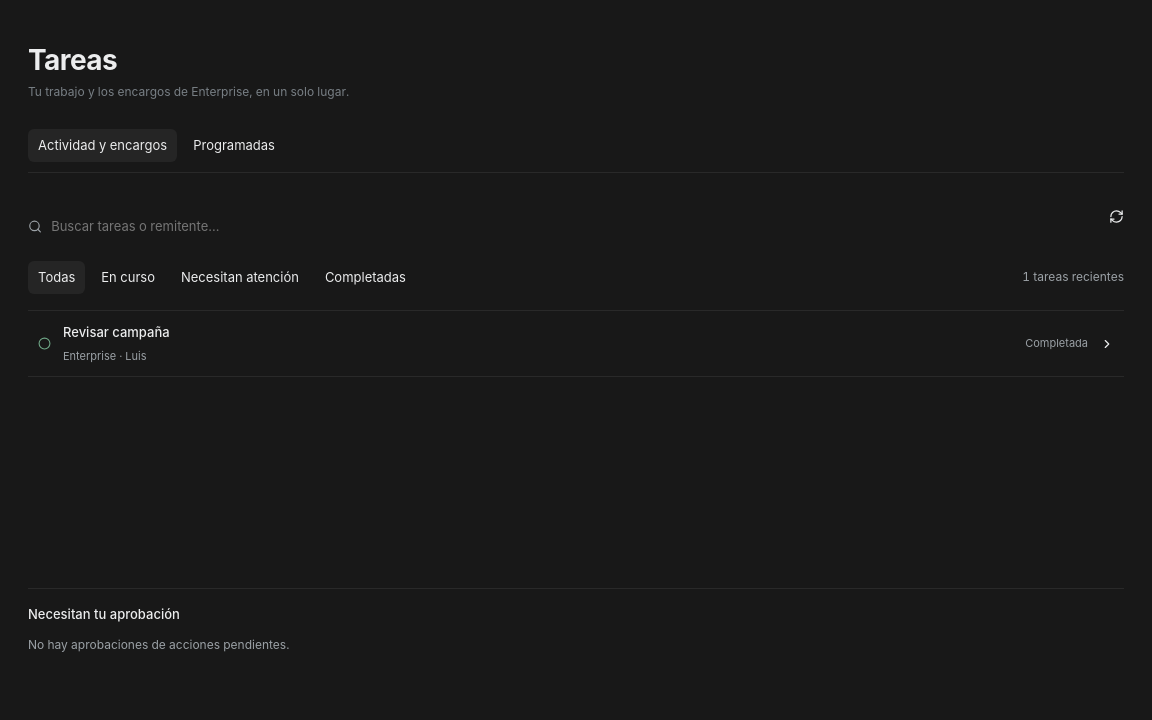
Community task dashboard › shows durable pending telemetry honestly and does not add it to attention
Click the button "Revisar campaña Enterprise · Luis Completada" at (116, 332), box [28,311,1124,377]
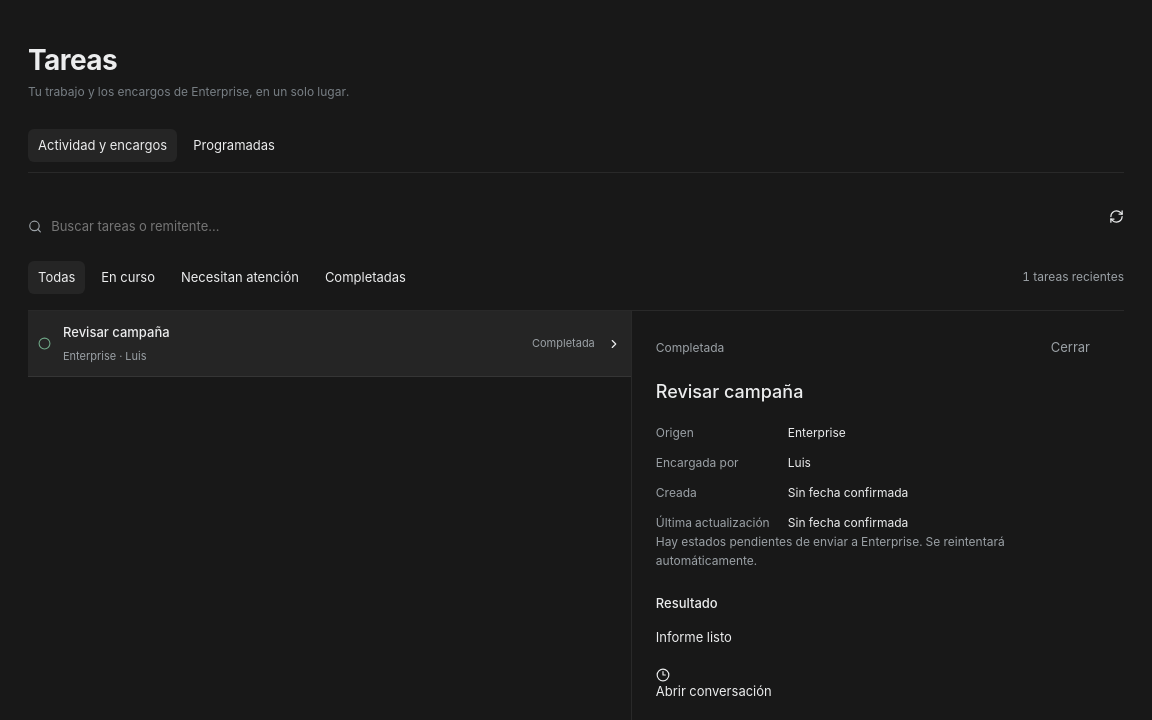
Expected: the text "Se reintentará automáticamente" is shown, [656,534,1005,568]
Click the button "Necesitan atención" at (240, 277), box [171,261,309,294]
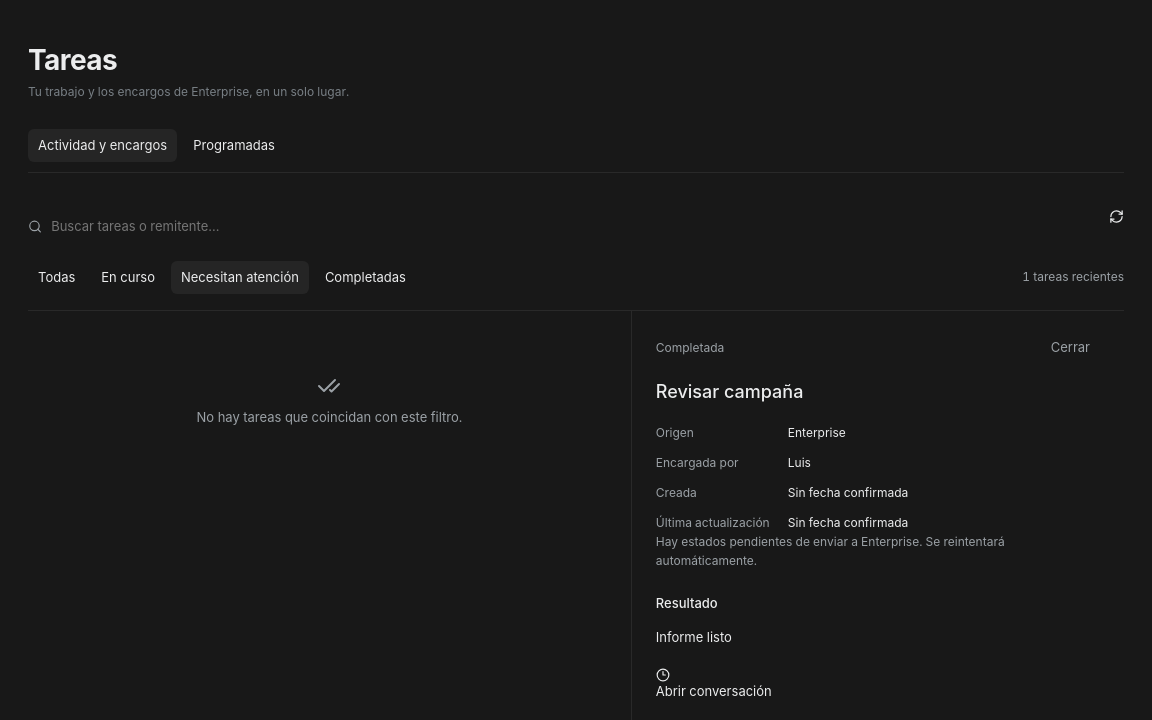
Expected: the text "No hay tareas que coincidan" is shown, [197,409,462,425]
